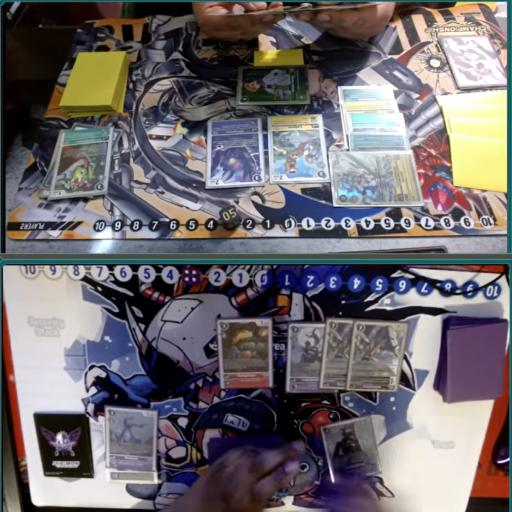card: (46, 125, 117, 205), (332, 149, 417, 209), (346, 320, 406, 392), (266, 114, 328, 181), (219, 316, 273, 391), (205, 118, 261, 190), (322, 419, 382, 478), (104, 406, 158, 470), (234, 67, 308, 106), (286, 323, 326, 394), (317, 320, 354, 391), (344, 113, 407, 135), (348, 131, 412, 150), (338, 85, 397, 102), (342, 98, 396, 115), (107, 470, 158, 483)
